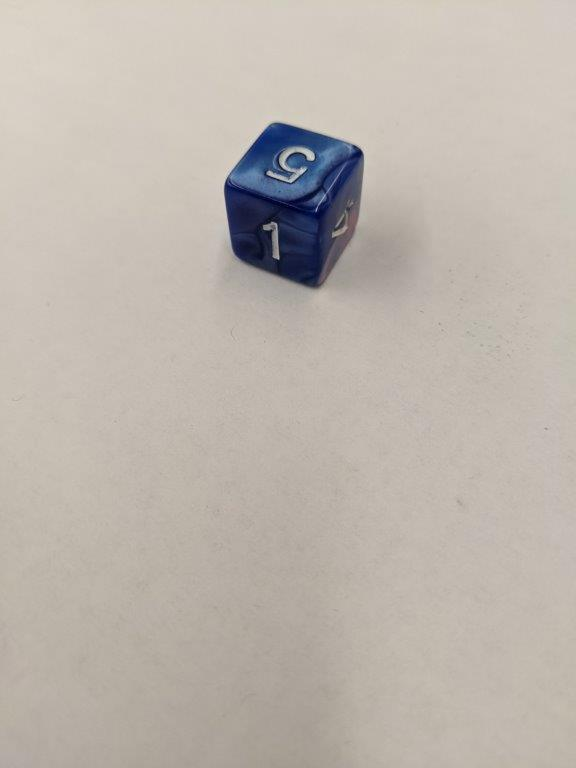d6-5: (224, 122, 365, 290)
